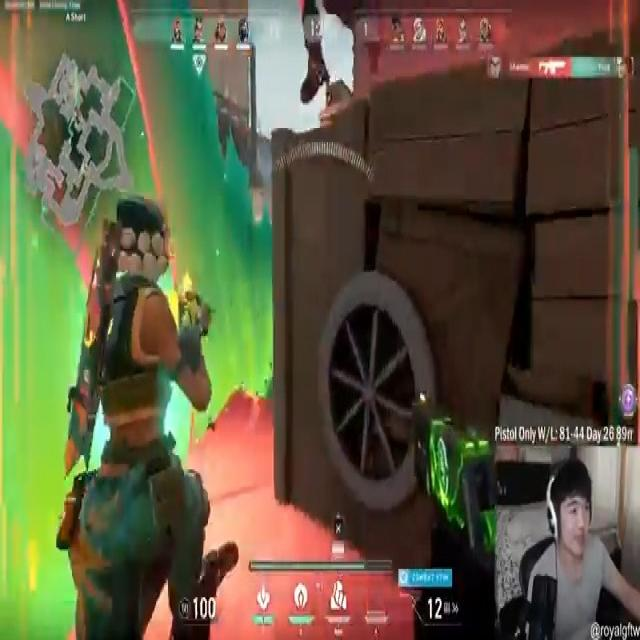ally: (87, 201, 201, 635)
